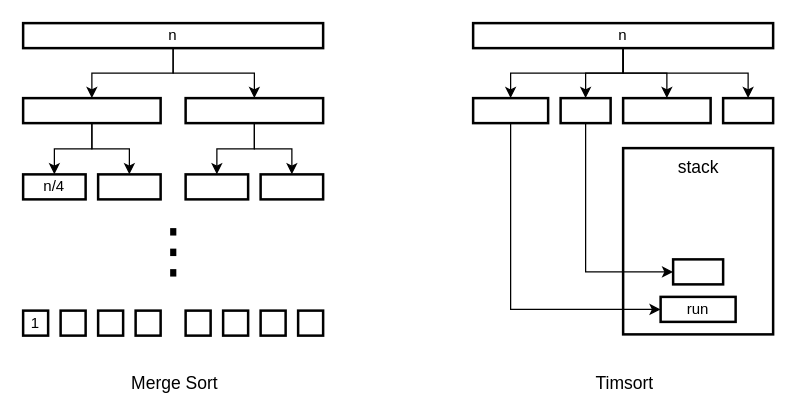
The diagram is 795 pixels wide and 416 high, and some of its shapes have lost their labels. Each missing label, with the box of its shape:
32 ≤ s ≤ n: (471, 96, 549, 124)
n/2: (21, 96, 161, 124)
